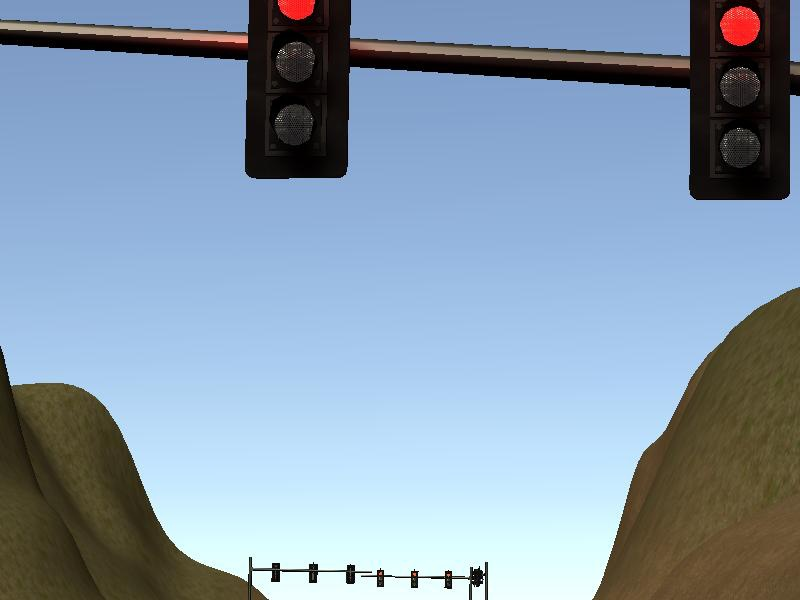Red: (687, 1, 794, 205), (246, 1, 364, 183), (408, 568, 420, 591), (442, 569, 453, 591), (374, 568, 385, 589)
